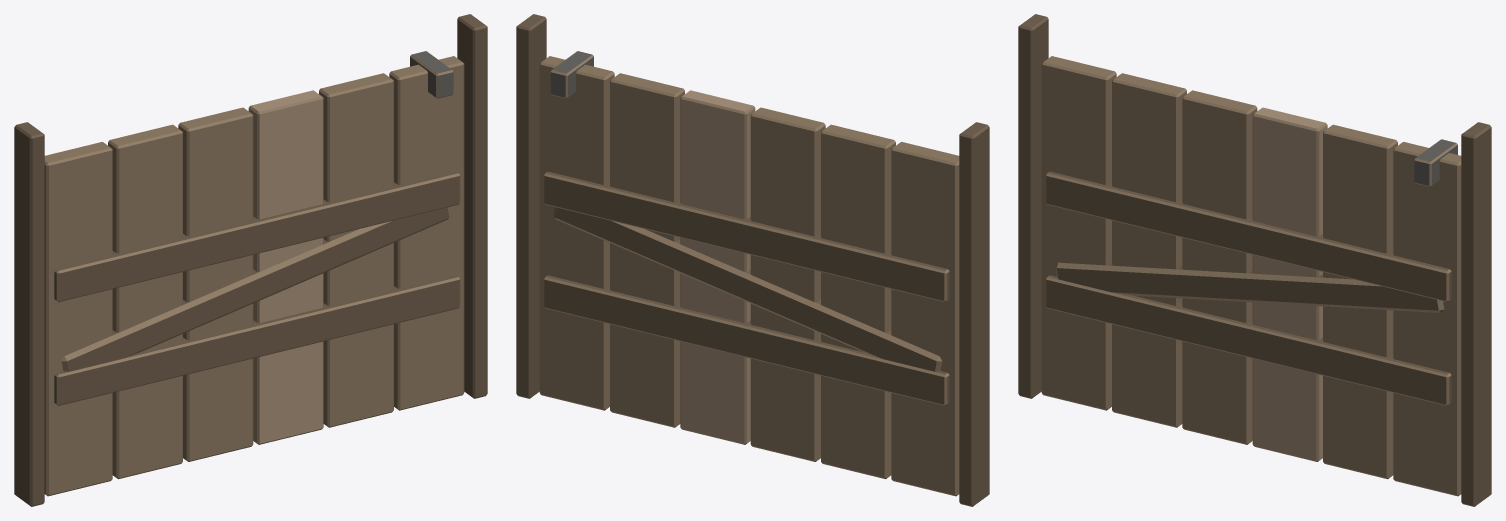
File: fence_gate.glb
3 views of the same model, side by side, from view 1: azimuth 30°, elevation 25°; view 2: azimuth 150°, elevation 25°; view 3: azimuth 330°, elevation 25° (orthographic).
Parts seen in each view (by area): view 1: Fence_Gate_L, Fence_Gate_Frame; view 2: Fence_Gate_L, Fence_Gate_Frame; view 3: Fence_Gate_L, Fence_Gate_Frame.
Part boxes in pixels (x1=…): Fence_Gate_L: x1=44, y1=51, x2=464, y2=496; Fence_Gate_Frame: x1=14, y1=14, x2=487, y2=506; Fence_Gate_L: x1=539, y1=51, x2=959, y2=496; Fence_Gate_Frame: x1=516, y1=14, x2=989, y2=506; Fence_Gate_L: x1=1041, y1=56, x2=1461, y2=496; Fence_Gate_Frame: x1=1018, y1=14, x2=1491, y2=506.
Size of the model in its own units: 1.52 by 1.18 by 0.16.
